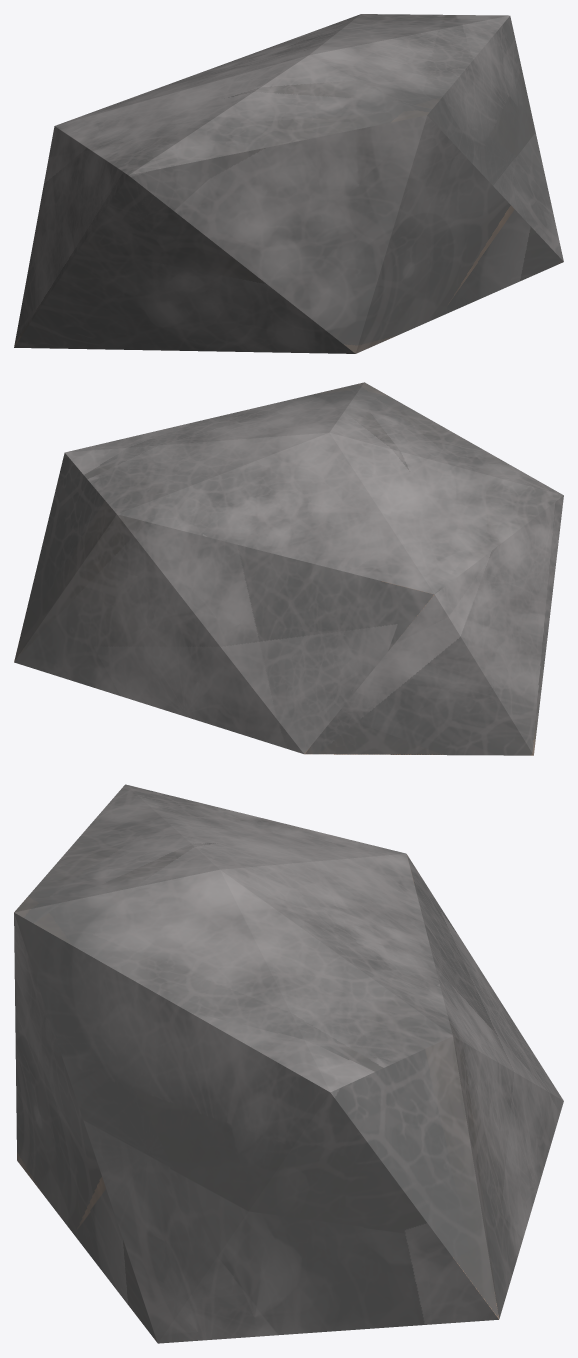
The model's file is rock_big.fbx.
3 renders of one model, top to bottom at view 1: azimuth 30°, elevation 25°; view 2: azimuth 150°, elevation 25°; view 3: azimuth 270°, elevation 25°, orthographic. The views are drawn at different scales.
Visible parts, largest first — view 1: GeoSphere001; view 2: GeoSphere001; view 3: GeoSphere001.
Part boxes in pixels (bbox=[...]): GeoSphere001: bbox=[14, 14, 563, 353]; GeoSphere001: bbox=[14, 382, 563, 755]; GeoSphere001: bbox=[14, 784, 563, 1343].
Size of the model in its own units: 12.78 by 6.28 by 9.21.
